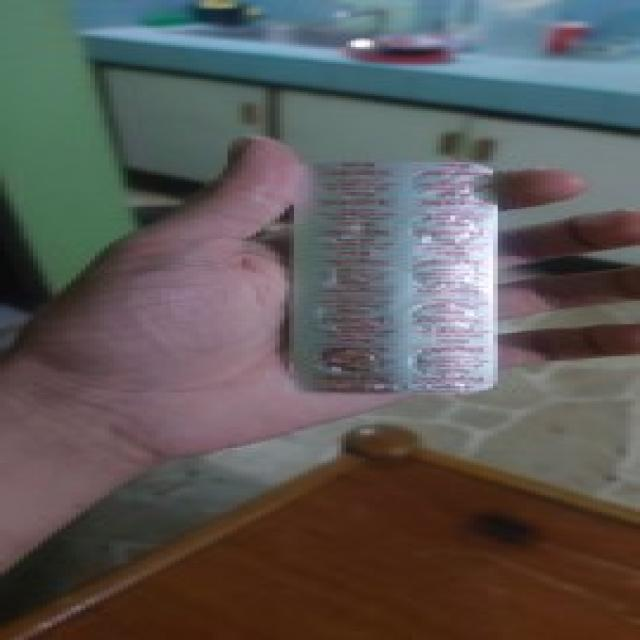Cacat: (294, 163, 493, 394)
